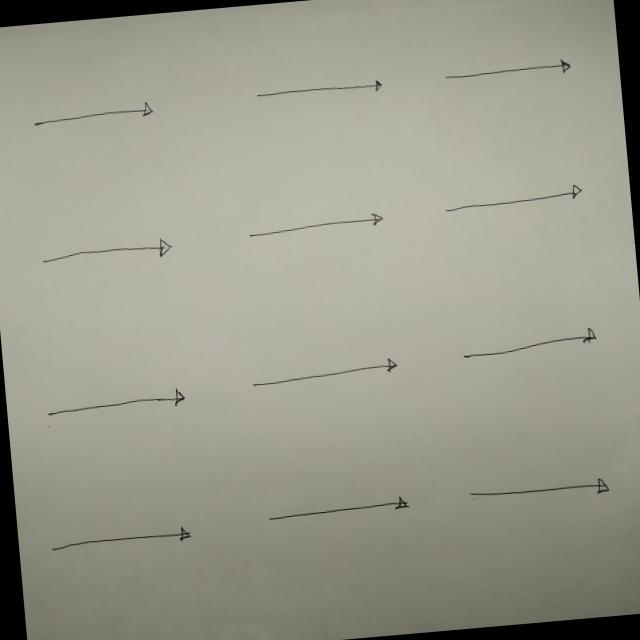arrow_line_up: (404, 469, 450, 561), (388, 338, 436, 426), (110, 361, 151, 456), (265, 482, 306, 576), (112, 506, 154, 596), (262, 350, 302, 440), (105, 100, 144, 186), (260, 218, 301, 292), (113, 227, 146, 317), (391, 209, 426, 289), (381, 88, 412, 160), (257, 96, 285, 172)
